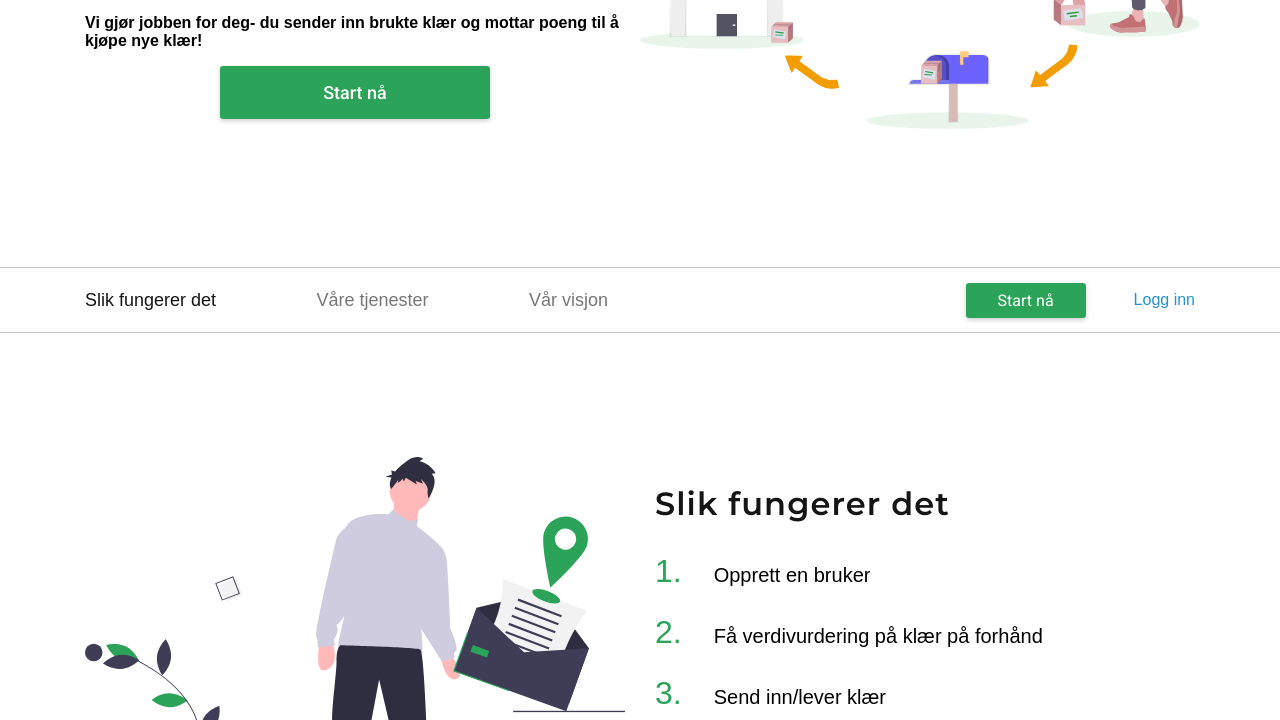
Test: renderDiv when "Våre tjenester" button is clicked
This screenshot has width=1280, height=720.
(page scrolled)
Click the text with test id "our-services" at (373, 300), box [316,290,429,310]
(page scrolled)
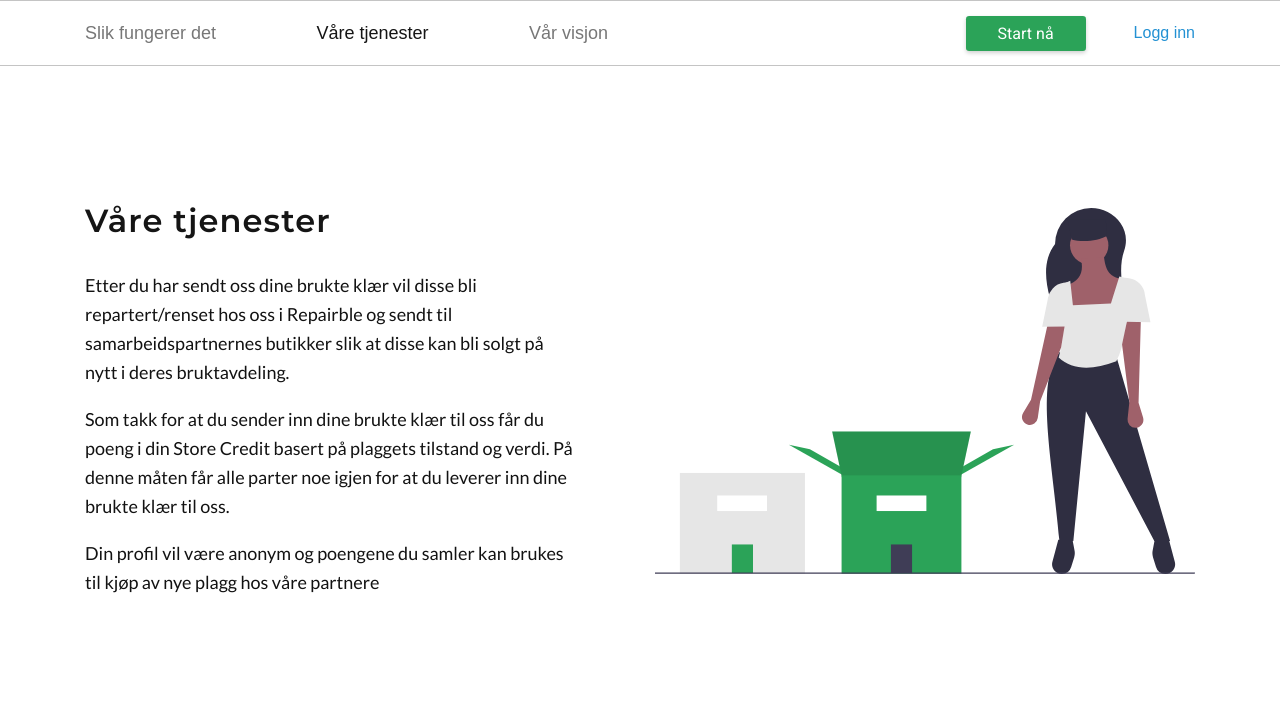
Now the element with test id "render-div" shows "Våre tjenester", box [85,201,331,240]
